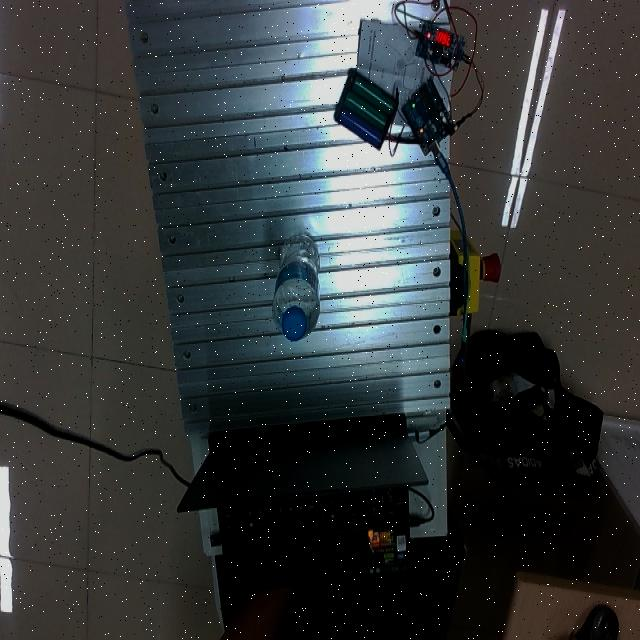lavie: (272, 236, 321, 343)
